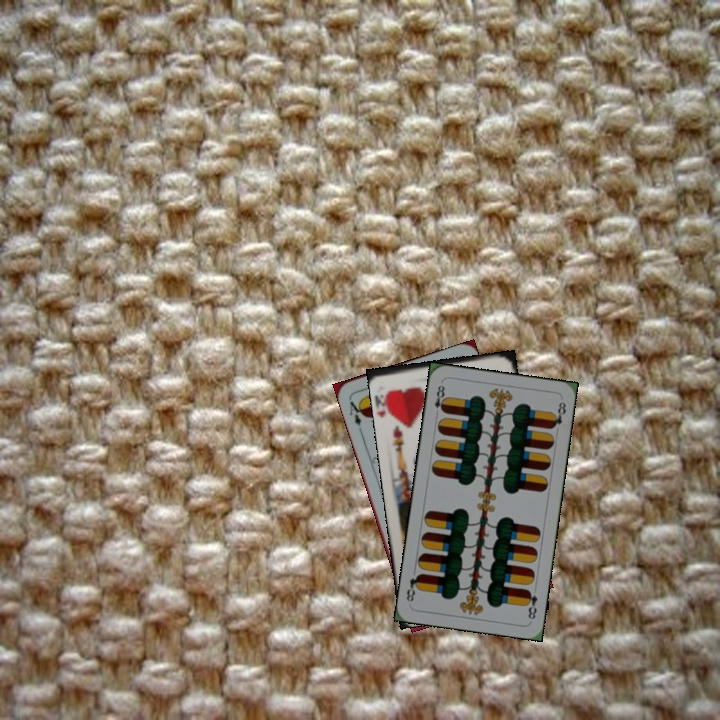E8: (430, 379, 449, 419), (521, 585, 540, 622)
EA: (345, 394, 367, 429)
HK: (373, 386, 396, 422)
